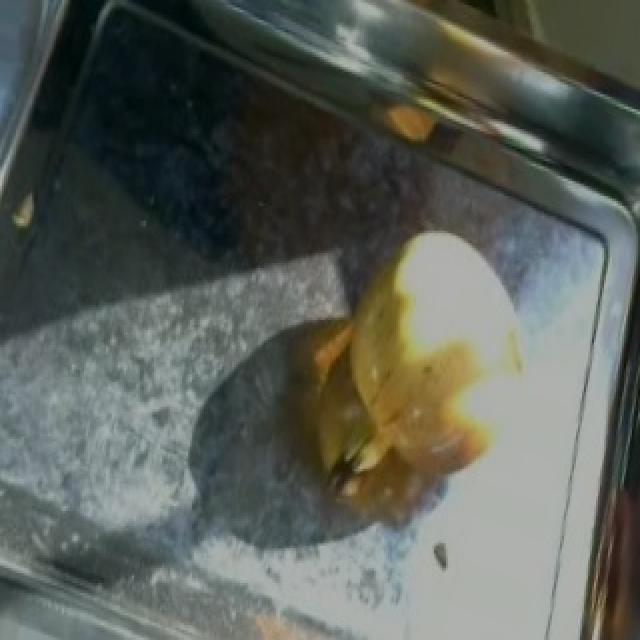fruit: (324, 201, 548, 409)
